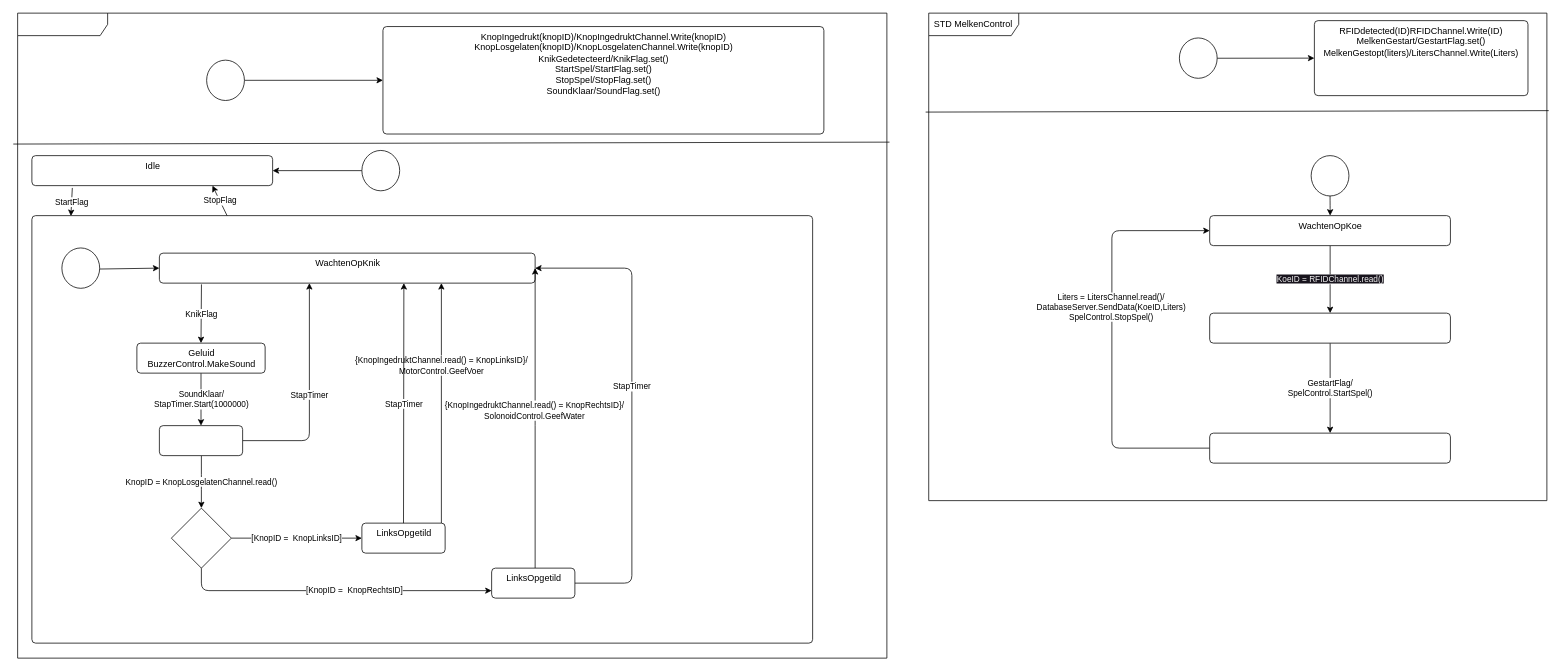
Image size: 1563x671. Some labels were removed from this diagram. Here are the shapes that lost their labels. From the top down, the box of each, then its label:
(17, 12, 887, 658): STD SpelControl
(1209, 312, 1450, 343): WachtenOpMelken
(159, 425, 243, 456): WachtenOpStap
(31, 215, 813, 643): Actief
(1209, 432, 1450, 463): Melken
